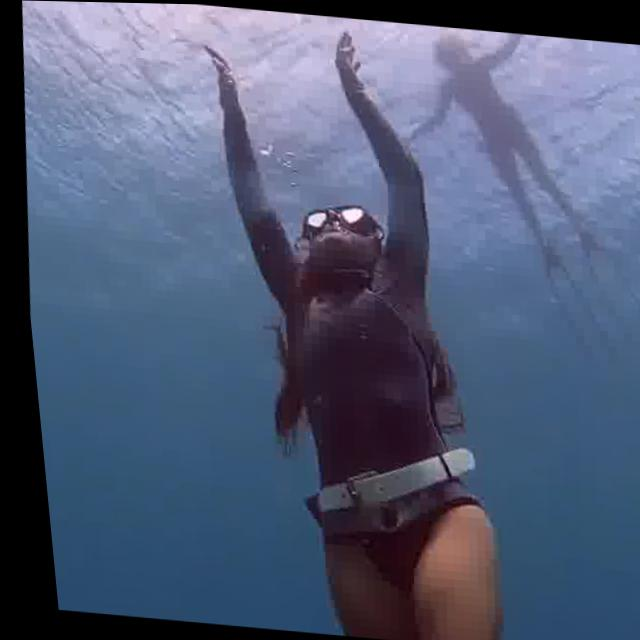human: (153, 12, 539, 640), (391, 21, 620, 289)
